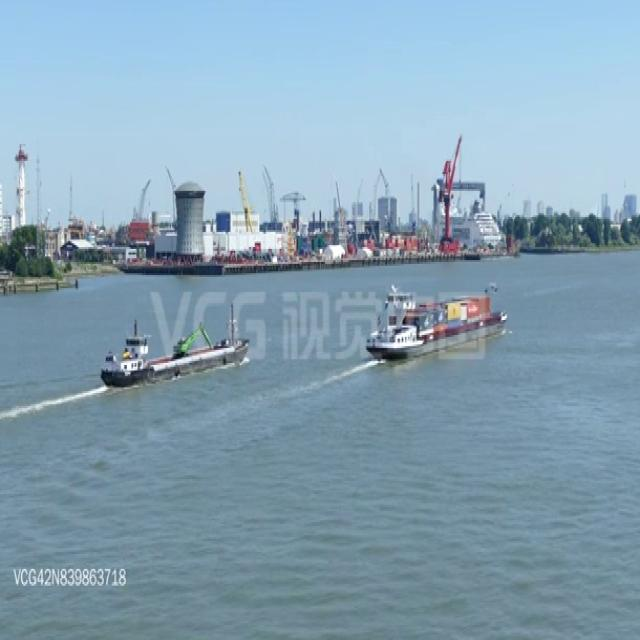cargoship: (102, 304, 246, 392), (366, 280, 508, 364)
